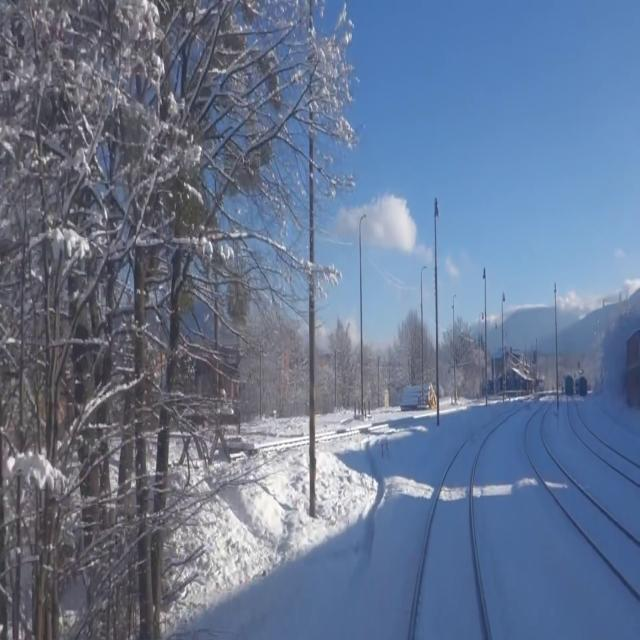rail-track: (527, 406, 640, 587), (414, 425, 490, 639), (569, 396, 640, 480)
